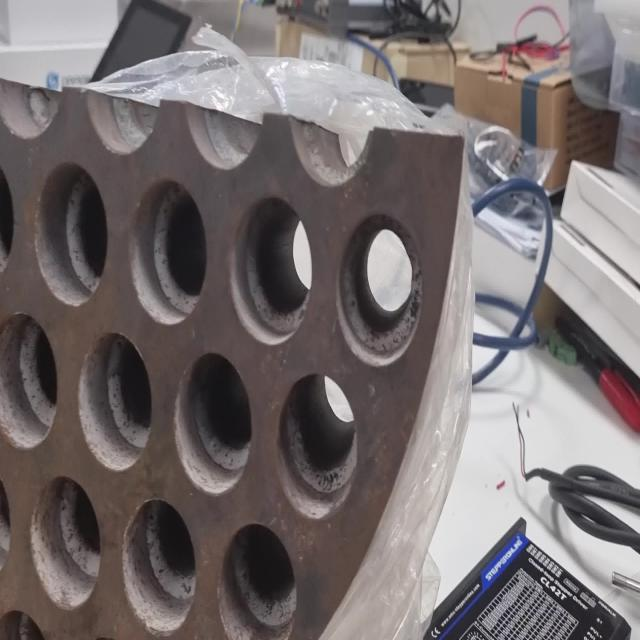Hole: (337, 208, 424, 366), (228, 197, 312, 345), (277, 370, 357, 520), (129, 178, 208, 326), (173, 351, 252, 495), (34, 161, 109, 307), (121, 496, 198, 636), (78, 332, 152, 472), (28, 474, 102, 610), (218, 522, 297, 640), (1, 311, 58, 451)
